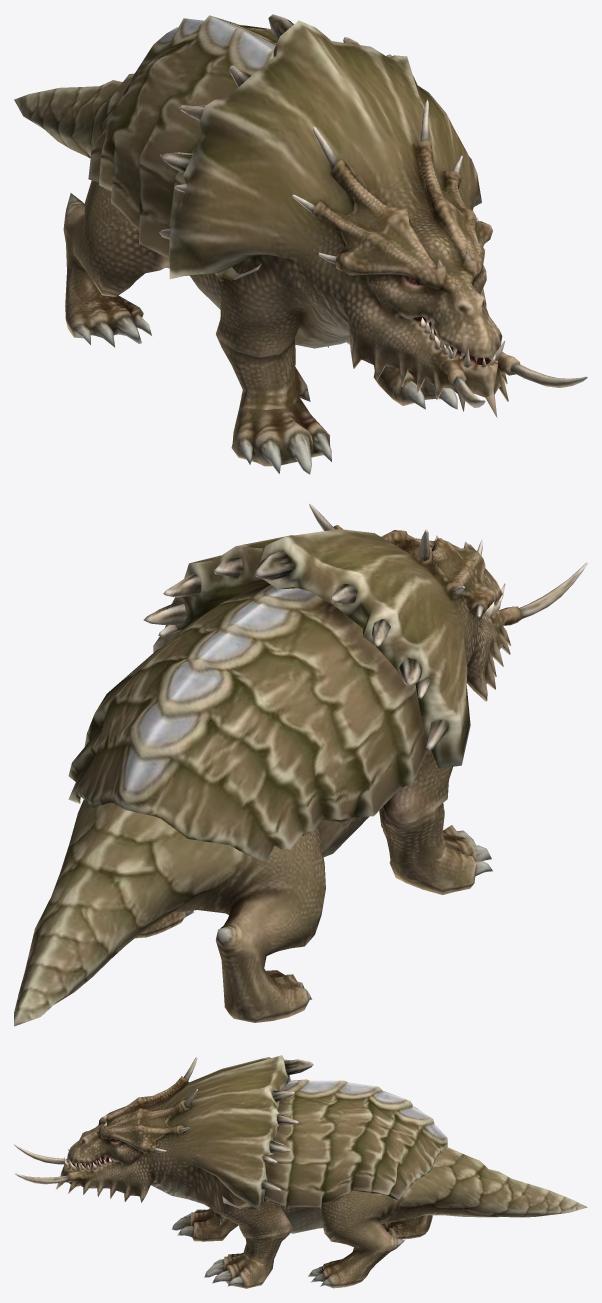
The model's file is 76-behemoth.glb.
3 renders of one model, top to bottom at view 1: azimuth 30°, elevation 25°; view 2: azimuth 150°, elevation 25°; view 3: azimuth 270°, elevation 25°, orthographic. The views are drawn at different scales.
Bounding box in the file's own units: 2.94 × 3.37 × 8.68.
Materials: 1 (1 with a texture image).
